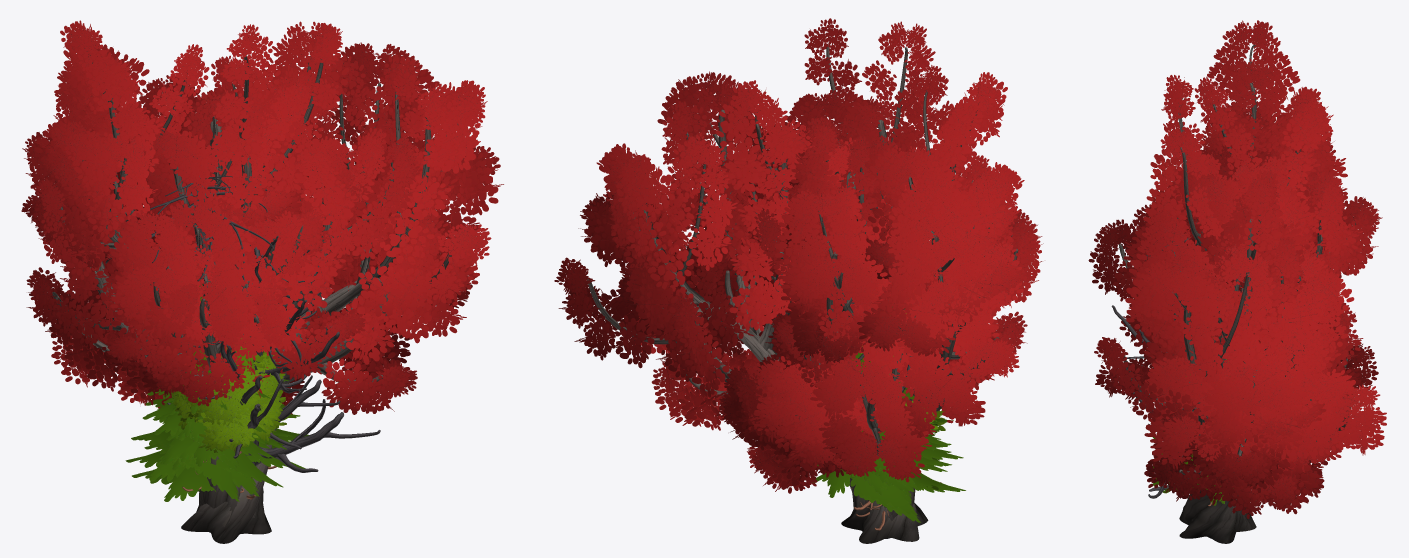
Rendered from kit_trees.glb.
The picture shows the model from 3 angles, left to right: view 1: azimuth 30°, elevation 25°; view 2: azimuth 150°, elevation 25°; view 3: azimuth 270°, elevation 25°; orthographic projection. The views are drawn at different scales.
Parts seen in each view (by area): view 1: TwistedTree_2, TwistedTree_1, TwistedTree_3, DeadTree_2, Pine_2, Pine_5, Pine_4, CommonTree_3, CommonTree_2, CommonTree_1, DeadTree_1, DeadTree_3 (+1 smaller); view 2: TwistedTree_1, TwistedTree_2, TwistedTree_3, Pine_5, Pine_2, Pine_4; view 3: TwistedTree_1, TwistedTree_2, TwistedTree_3, DeadTree_2.
Part boxes in pixels (x1=…): TwistedTree_2: x1=21, y1=20, x2=342, y2=526; TwistedTree_1: x1=155, y1=21, x2=503, y2=543; TwistedTree_3: x1=50, y1=55, x2=423, y2=526; DeadTree_2: x1=181, y1=220, x2=380, y2=472; Pine_2: x1=132, y1=412, x2=292, y2=501; Pine_5: x1=125, y1=398, x2=308, y2=496; Pine_4: x1=131, y1=284, x2=289, y2=491; CommonTree_3: x1=180, y1=338, x2=285, y2=429; CommonTree_2: x1=172, y1=347, x2=285, y2=454; CommonTree_1: x1=174, y1=349, x2=287, y2=452; DeadTree_1: x1=146, y1=282, x2=340, y2=449; DeadTree_3: x1=105, y1=161, x2=301, y2=533; TwistedTree_1: x1=554, y1=71, x2=928, y2=543; TwistedTree_2: x1=754, y1=18, x2=1043, y2=518; TwistedTree_3: x1=716, y1=89, x2=1042, y2=520; Pine_5: x1=817, y1=352, x2=955, y2=514; Pine_2: x1=812, y1=422, x2=965, y2=522; Pine_4: x1=850, y1=307, x2=963, y2=530; TwistedTree_1: x1=1094, y1=170, x2=1386, y2=543; TwistedTree_2: x1=1125, y1=20, x2=1349, y2=530; TwistedTree_3: x1=1088, y1=145, x2=1382, y2=509; DeadTree_2: x1=1111, y1=305, x2=1188, y2=498.
Bounding box in the file's own units: 17.96 × 19.08 × 11.71.
6 materials, 6 textured.
